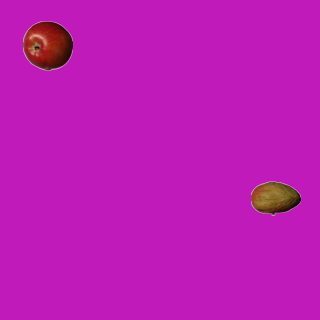Apple Braeburn: (22, 20, 72, 70)
Papaya: (250, 173, 300, 223)
